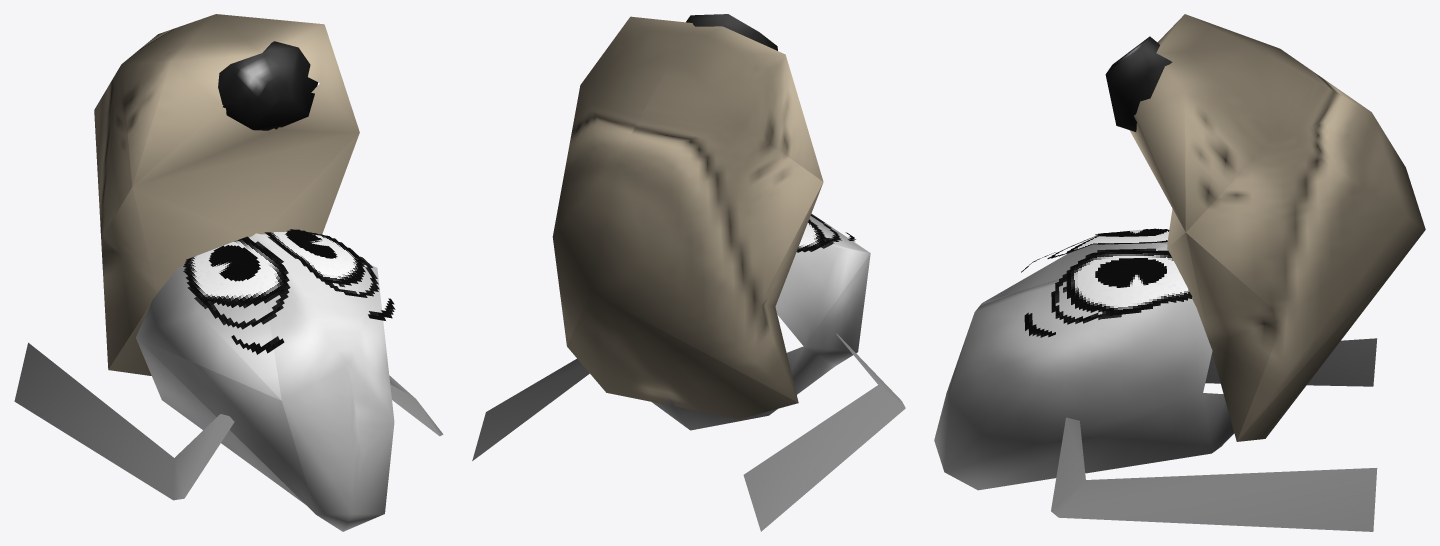
File: dll_250.glb
3 views of the same model, side by side, from view 1: azimuth 30°, elevation 25°; view 2: azimuth 150°, elevation 25°; view 3: azimuth 270°, elevation 25° (orthographic). The views are drawn at different scales.
Parts seen in each view (by area): view 1: muzzle, head, ears, eyes, nose, def_left_pupil, def_right_pupil; view 2: muzzle, ears, head, nose, eyes; view 3: muzzle, head, ears, eyes, nose, def_right_pupil.
Boxes of the visible parts, x1=… form: muzzle: x1=94, y1=14, x2=359, y2=375; head: x1=136, y1=233, x2=394, y2=531; ears: x1=14, y1=342, x2=443, y2=500; eyes: x1=183, y1=231, x2=395, y2=354; nose: x1=218, y1=41, x2=318, y2=130; def_left_pupil: x1=208, y1=245, x2=260, y2=281; def_right_pupil: x1=285, y1=229, x2=337, y2=258; muzzle: x1=552, y1=16, x2=823, y2=419; ears: x1=472, y1=333, x2=905, y2=531; head: x1=652, y1=213, x2=870, y2=430; nose: x1=686, y1=14, x2=777, y2=50; eyes: x1=796, y1=214, x2=855, y2=252; muzzle: x1=1129, y1=14, x2=1425, y2=441; head: x1=934, y1=242, x2=1234, y2=490; ears: x1=1051, y1=338, x2=1377, y2=531; eyes: x1=1021, y1=229, x2=1192, y2=337; nose: x1=1105, y1=36, x2=1172, y2=131; def_right_pupil: x1=1095, y1=258, x2=1166, y2=287.
Size of the model in its own units: 1.14 by 1.58 by 1.63.
Materials: 6 (6 with a texture image).
